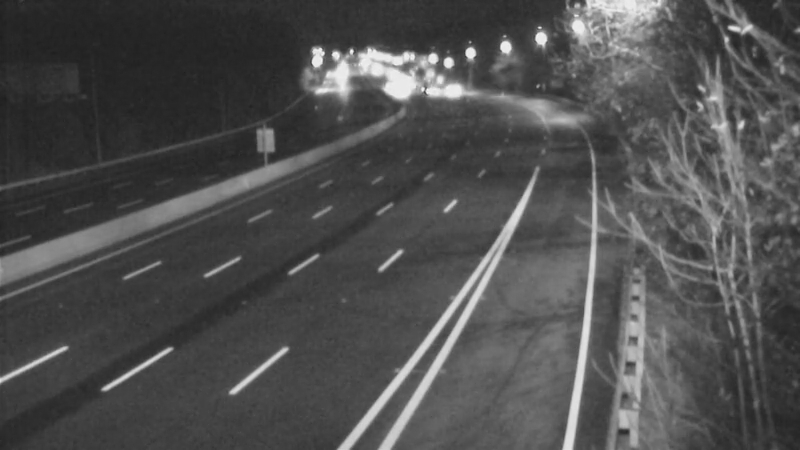vehicle: (407, 62, 457, 112), (423, 67, 473, 117), (372, 65, 422, 115)
